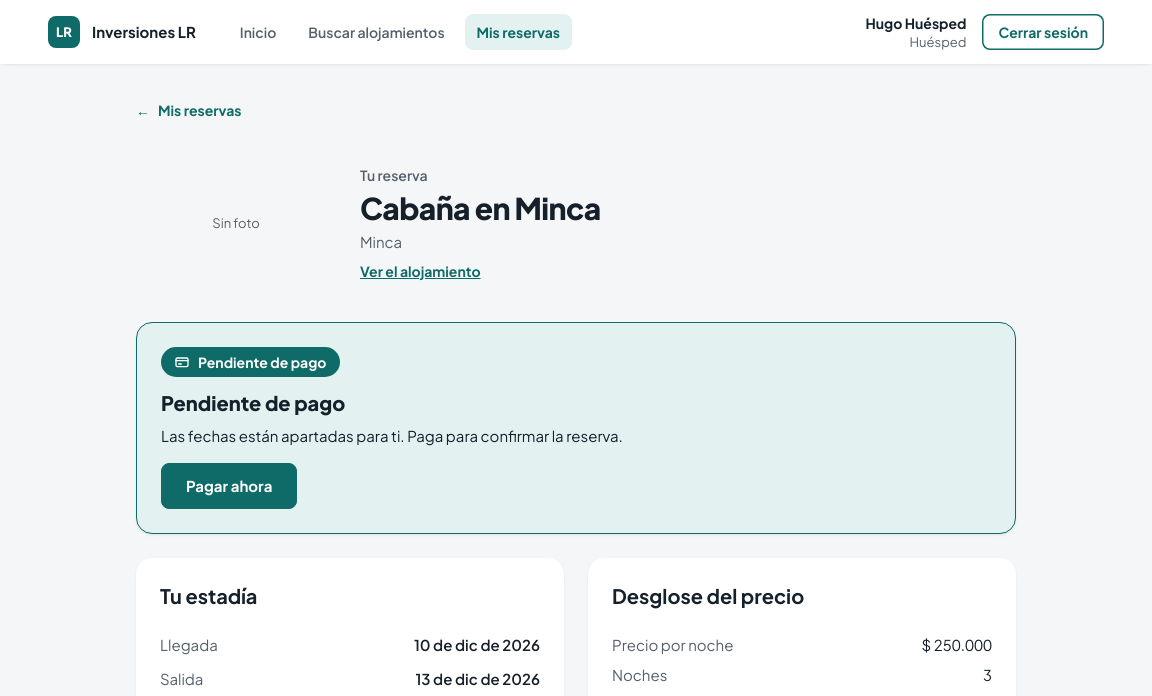
Scenario: pago de la reserva › se llega desde el detalle de la reserva
The width and height of the screenshot is (1152, 696).
Click the link "Pagar ahora" at (229, 486), box [161,463,297,509]
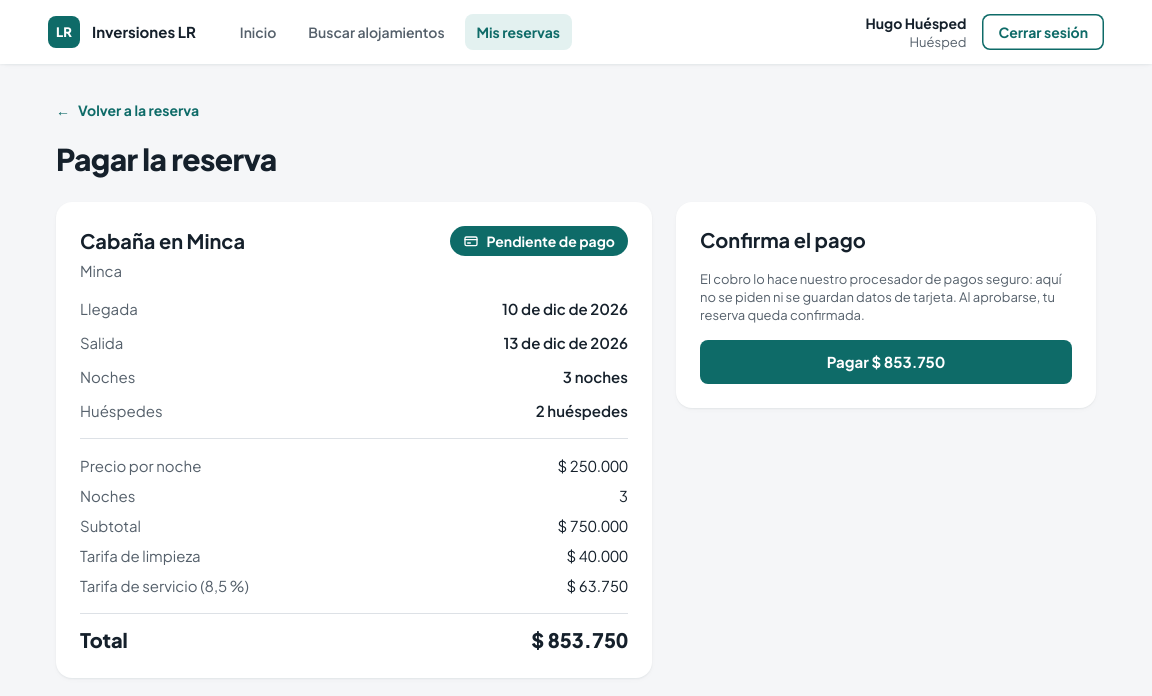
expect the heading "Pagar la reserva" is shown: met, box [56,140,277,178]
